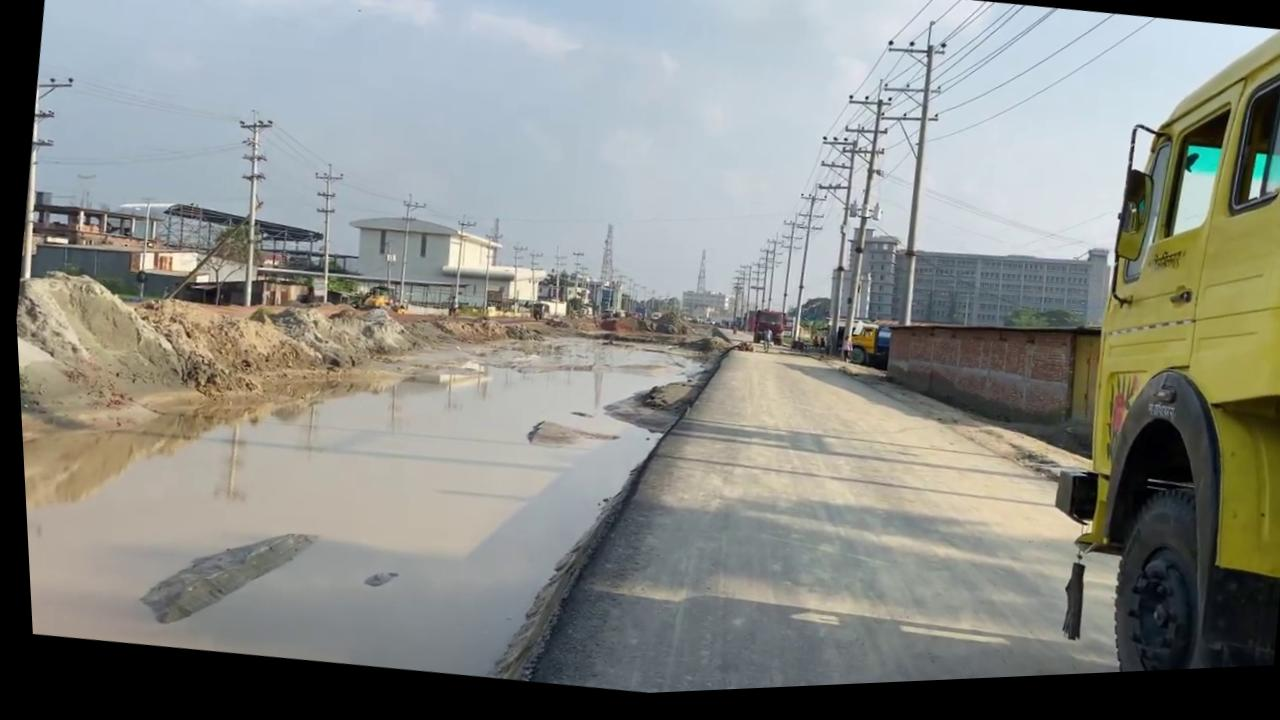Curb: (471, 312, 751, 704)
Pole: (845, 23, 959, 337), (809, 82, 902, 372), (9, 73, 80, 284), (211, 109, 280, 310), (294, 163, 346, 306), (385, 196, 427, 311)
Sidewalk: (11, 250, 726, 720)
Tree: (996, 15, 1280, 685), (839, 326, 890, 378), (346, 282, 406, 319), (745, 313, 782, 352)
Upstairs: (871, 308, 1096, 447)
